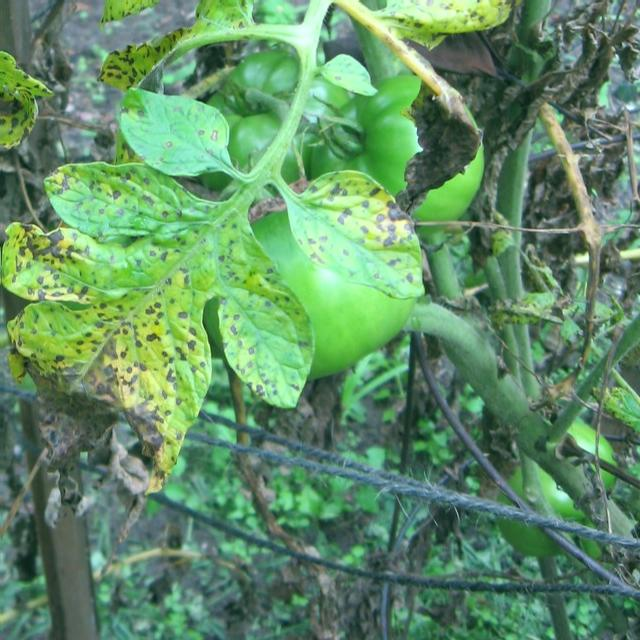Tomato Septoria leaf spot: (0, 138, 297, 482), (283, 173, 443, 306), (95, 0, 269, 44), (360, 0, 543, 41), (0, 0, 53, 124)
